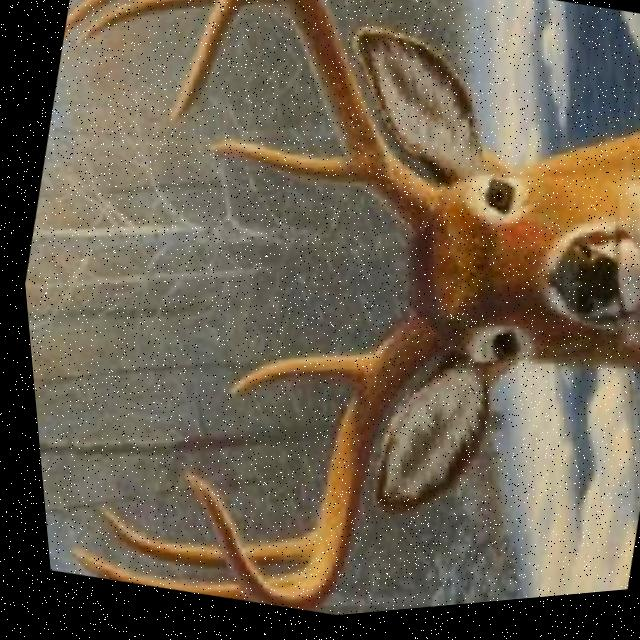L-F: (173, 321, 430, 614)
L-G1: (219, 356, 369, 399)
R-F: (167, 0, 436, 236)
R-G1: (202, 143, 361, 186)
